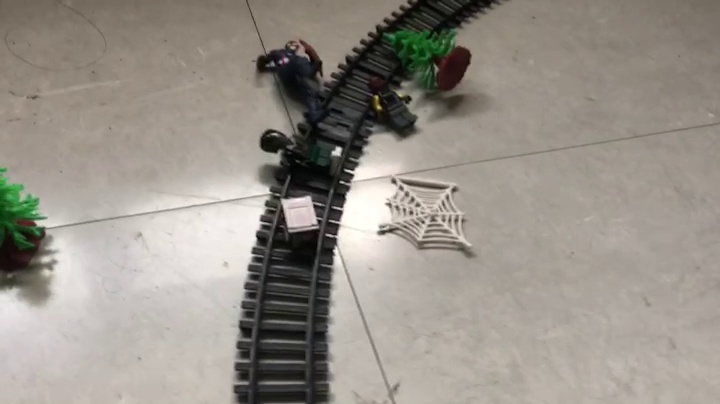box: (279, 195, 321, 253)
people: (256, 40, 331, 126), (258, 130, 344, 183), (366, 74, 419, 137)
tree: (383, 28, 472, 95), (1, 165, 48, 275)
web: (378, 173, 474, 252)
